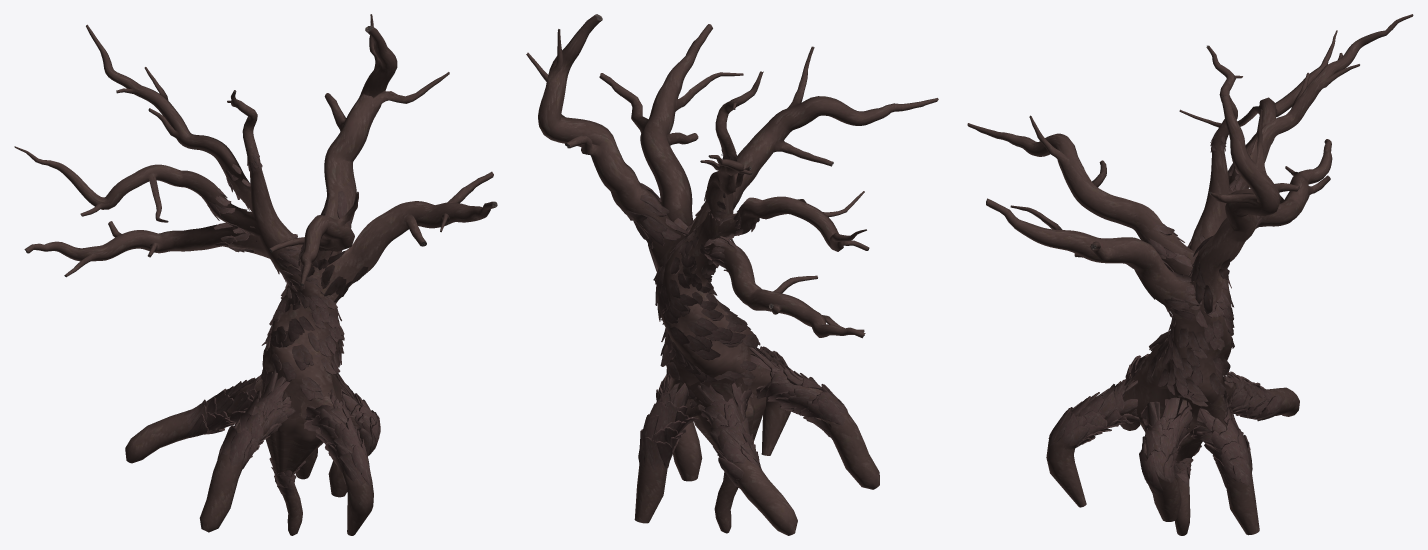
3 renders of one model, left to right at view 1: azimuth 30°, elevation 25°; view 2: azimuth 150°, elevation 25°; view 3: azimuth 270°, elevation 25°, orthographic. The views are drawn at different scales.
Parts seen in each view (by area): view 1: SM_SW_SwampTree_01_LOD0; view 2: SM_SW_SwampTree_01_LOD0; view 3: SM_SW_SwampTree_01_LOD0.
Part boxes in pixels (x1,y1,x2,y2): SM_SW_SwampTree_01_LOD0: (14, 14, 497, 535); SM_SW_SwampTree_01_LOD0: (526, 14, 938, 535); SM_SW_SwampTree_01_LOD0: (967, 14, 1413, 535).
Bounding box in the file's own units: 18.31 × 21.93 × 18.07.
1 material, 1 textured.
